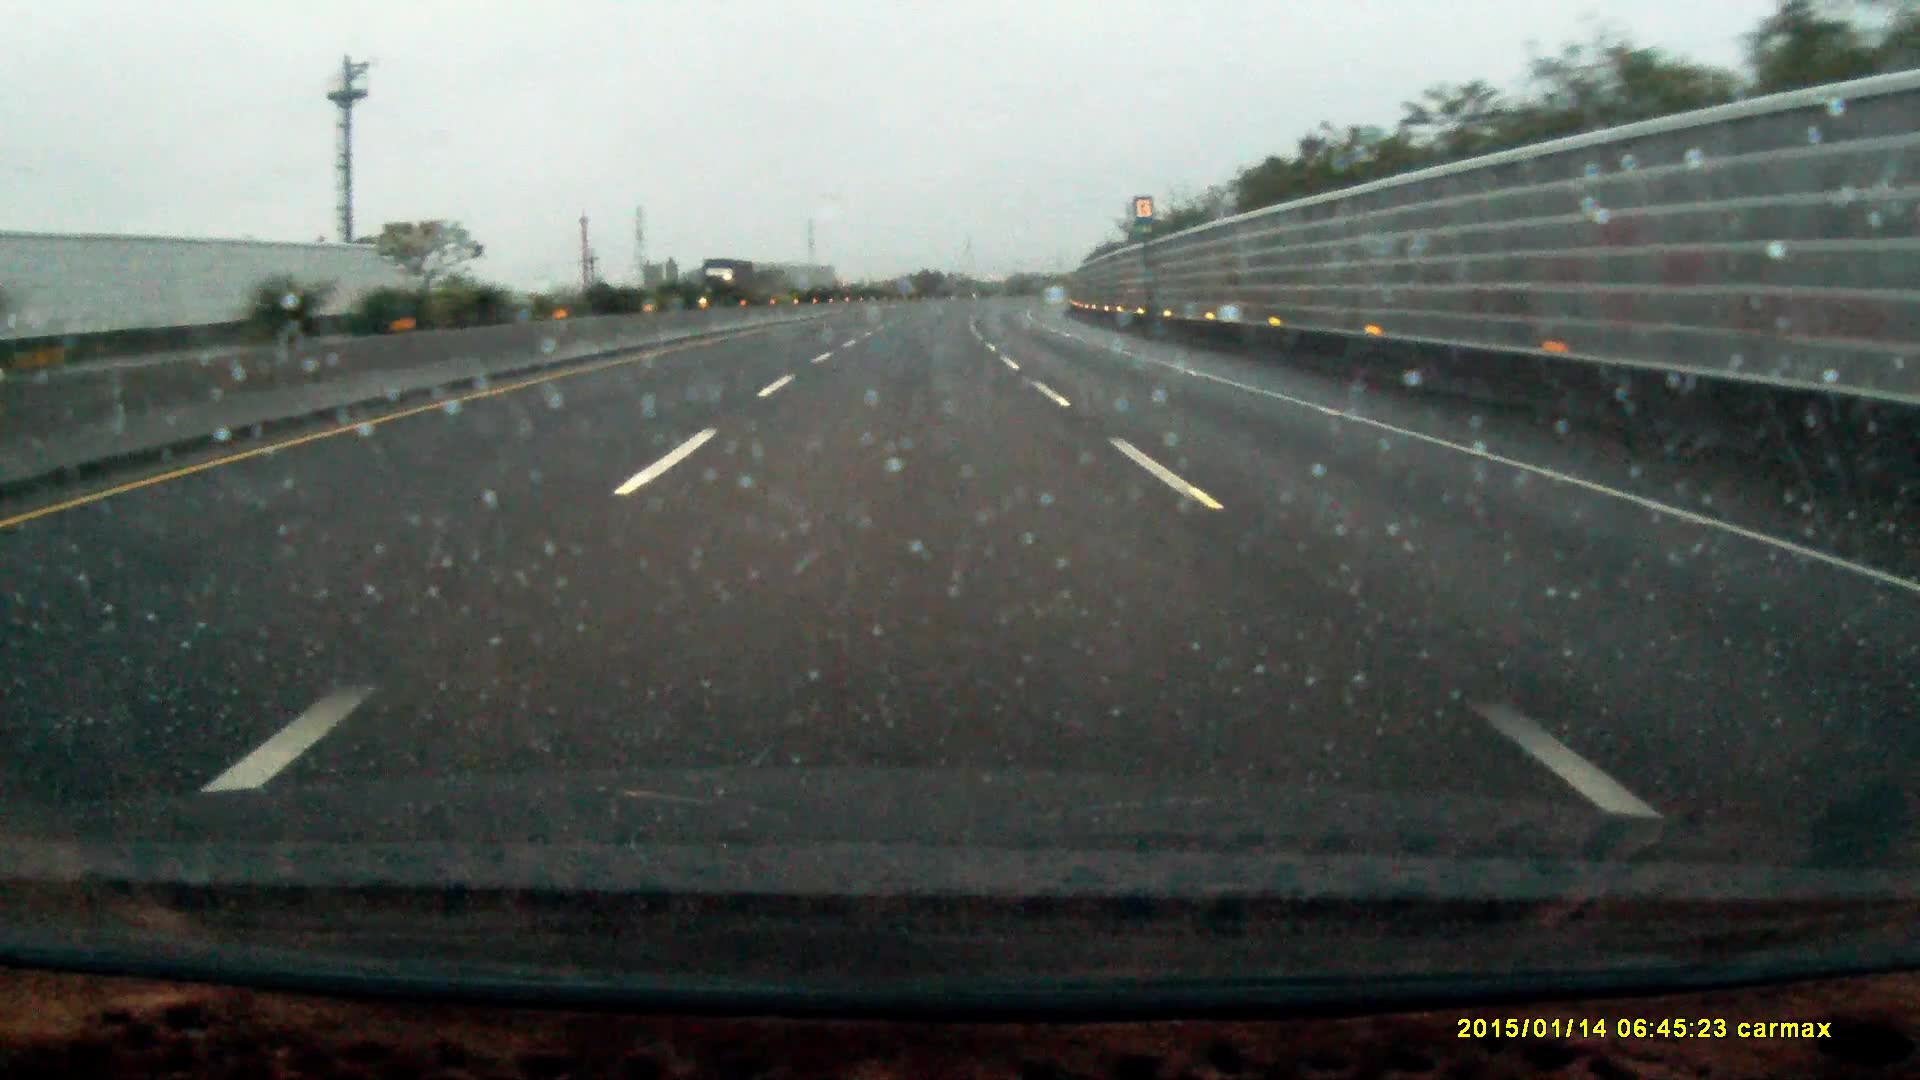vehicle: (702, 258, 754, 301)
